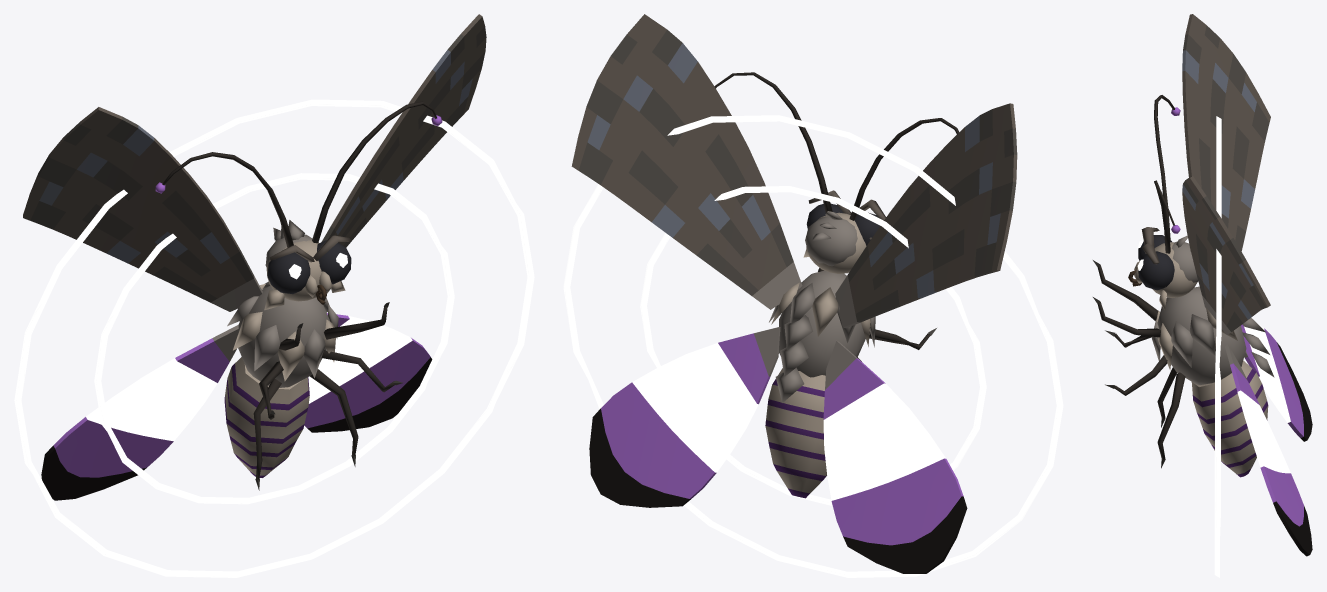
Rendered from moth-flash-wing.glb.
The picture shows the model from 3 angles, left to right: view 1: azimuth 30°, elevation 25°; view 2: azimuth 150°, elevation 25°; view 3: azimuth 270°, elevation 25°; orthographic projection. The views are drawn at different scales.
Parts seen in each view (by area): view 1: glide_wing_1, glide_wing_0, pulse_rings, body, pulse_abdomen, turn_head, blink_eye_r, sway_feeler_l, sway_feeler_r, blink_eye_l; view 2: glide_wing_0, glide_wing_1, pulse_rings, body, pulse_abdomen, turn_head, sway_feeler_l, sway_feeler_r; view 3: glide_wing_1, glide_wing_0, body, pulse_abdomen, pulse_rings, turn_head, blink_eye_l, sway_feeler_r, sway_feeler_l.
Boxes of the visible parts, x1,y1,x2,y2 form: glide_wing_1: [23, 107, 262, 500]; glide_wing_0: [304, 14, 486, 432]; pulse_rings: [14, 99, 534, 577]; body: [227, 281, 402, 490]; pulse_abdomen: [224, 357, 309, 477]; turn_head: [264, 220, 351, 310]; blink_eye_r: [267, 252, 310, 294]; sway_feeler_l: [312, 101, 442, 243]; sway_feeler_r: [155, 152, 293, 247]; blink_eye_l: [317, 240, 351, 284]; glide_wing_0: [571, 14, 802, 507]; glide_wing_1: [823, 103, 1017, 573]; pulse_rings: [563, 115, 1063, 577]; body: [769, 268, 936, 402]; pulse_abdomen: [765, 368, 826, 498]; turn_head: [803, 190, 886, 273]; sway_feeler_l: [714, 72, 832, 212]; sway_feeler_r: [849, 118, 959, 220]; glide_wing_1: [1182, 14, 1312, 441]; glide_wing_0: [1182, 176, 1312, 556]; body: [1093, 260, 1274, 468]; pulse_abdomen: [1191, 361, 1268, 477]; pulse_rings: [1214, 116, 1221, 577]; turn_head: [1128, 227, 1198, 310]; blink_eye_l: [1137, 251, 1174, 290]; sway_feeler_r: [1154, 95, 1180, 241]; sway_feeler_l: [1154, 180, 1180, 253].
Size of the model in its own units: 0.9491 by 0.9126 by 0.4016.
